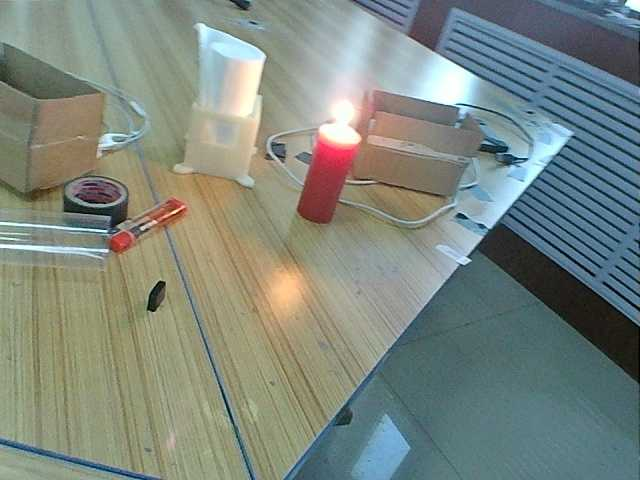candle: (286, 136, 362, 226)
fire: (317, 96, 362, 137)
